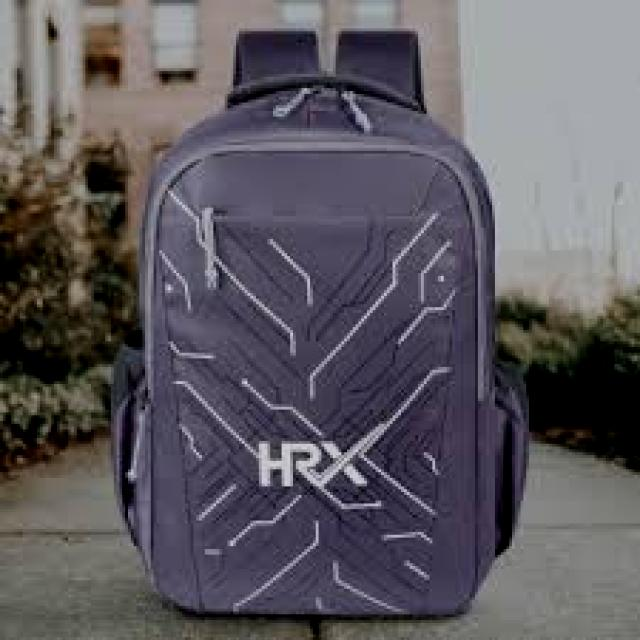backpack: (109, 27, 530, 619)
